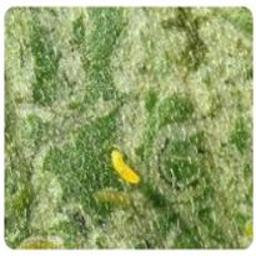liriomyza: (3, 6, 255, 251), (108, 151, 140, 185)
